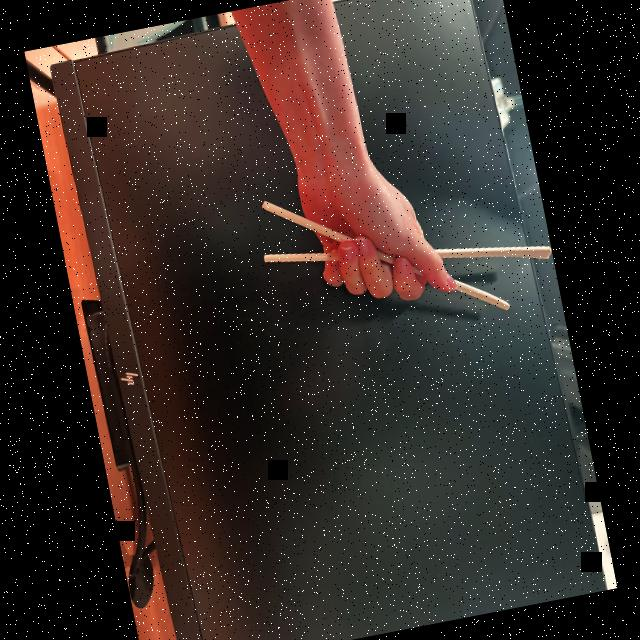stick: (247, 137, 537, 356)
